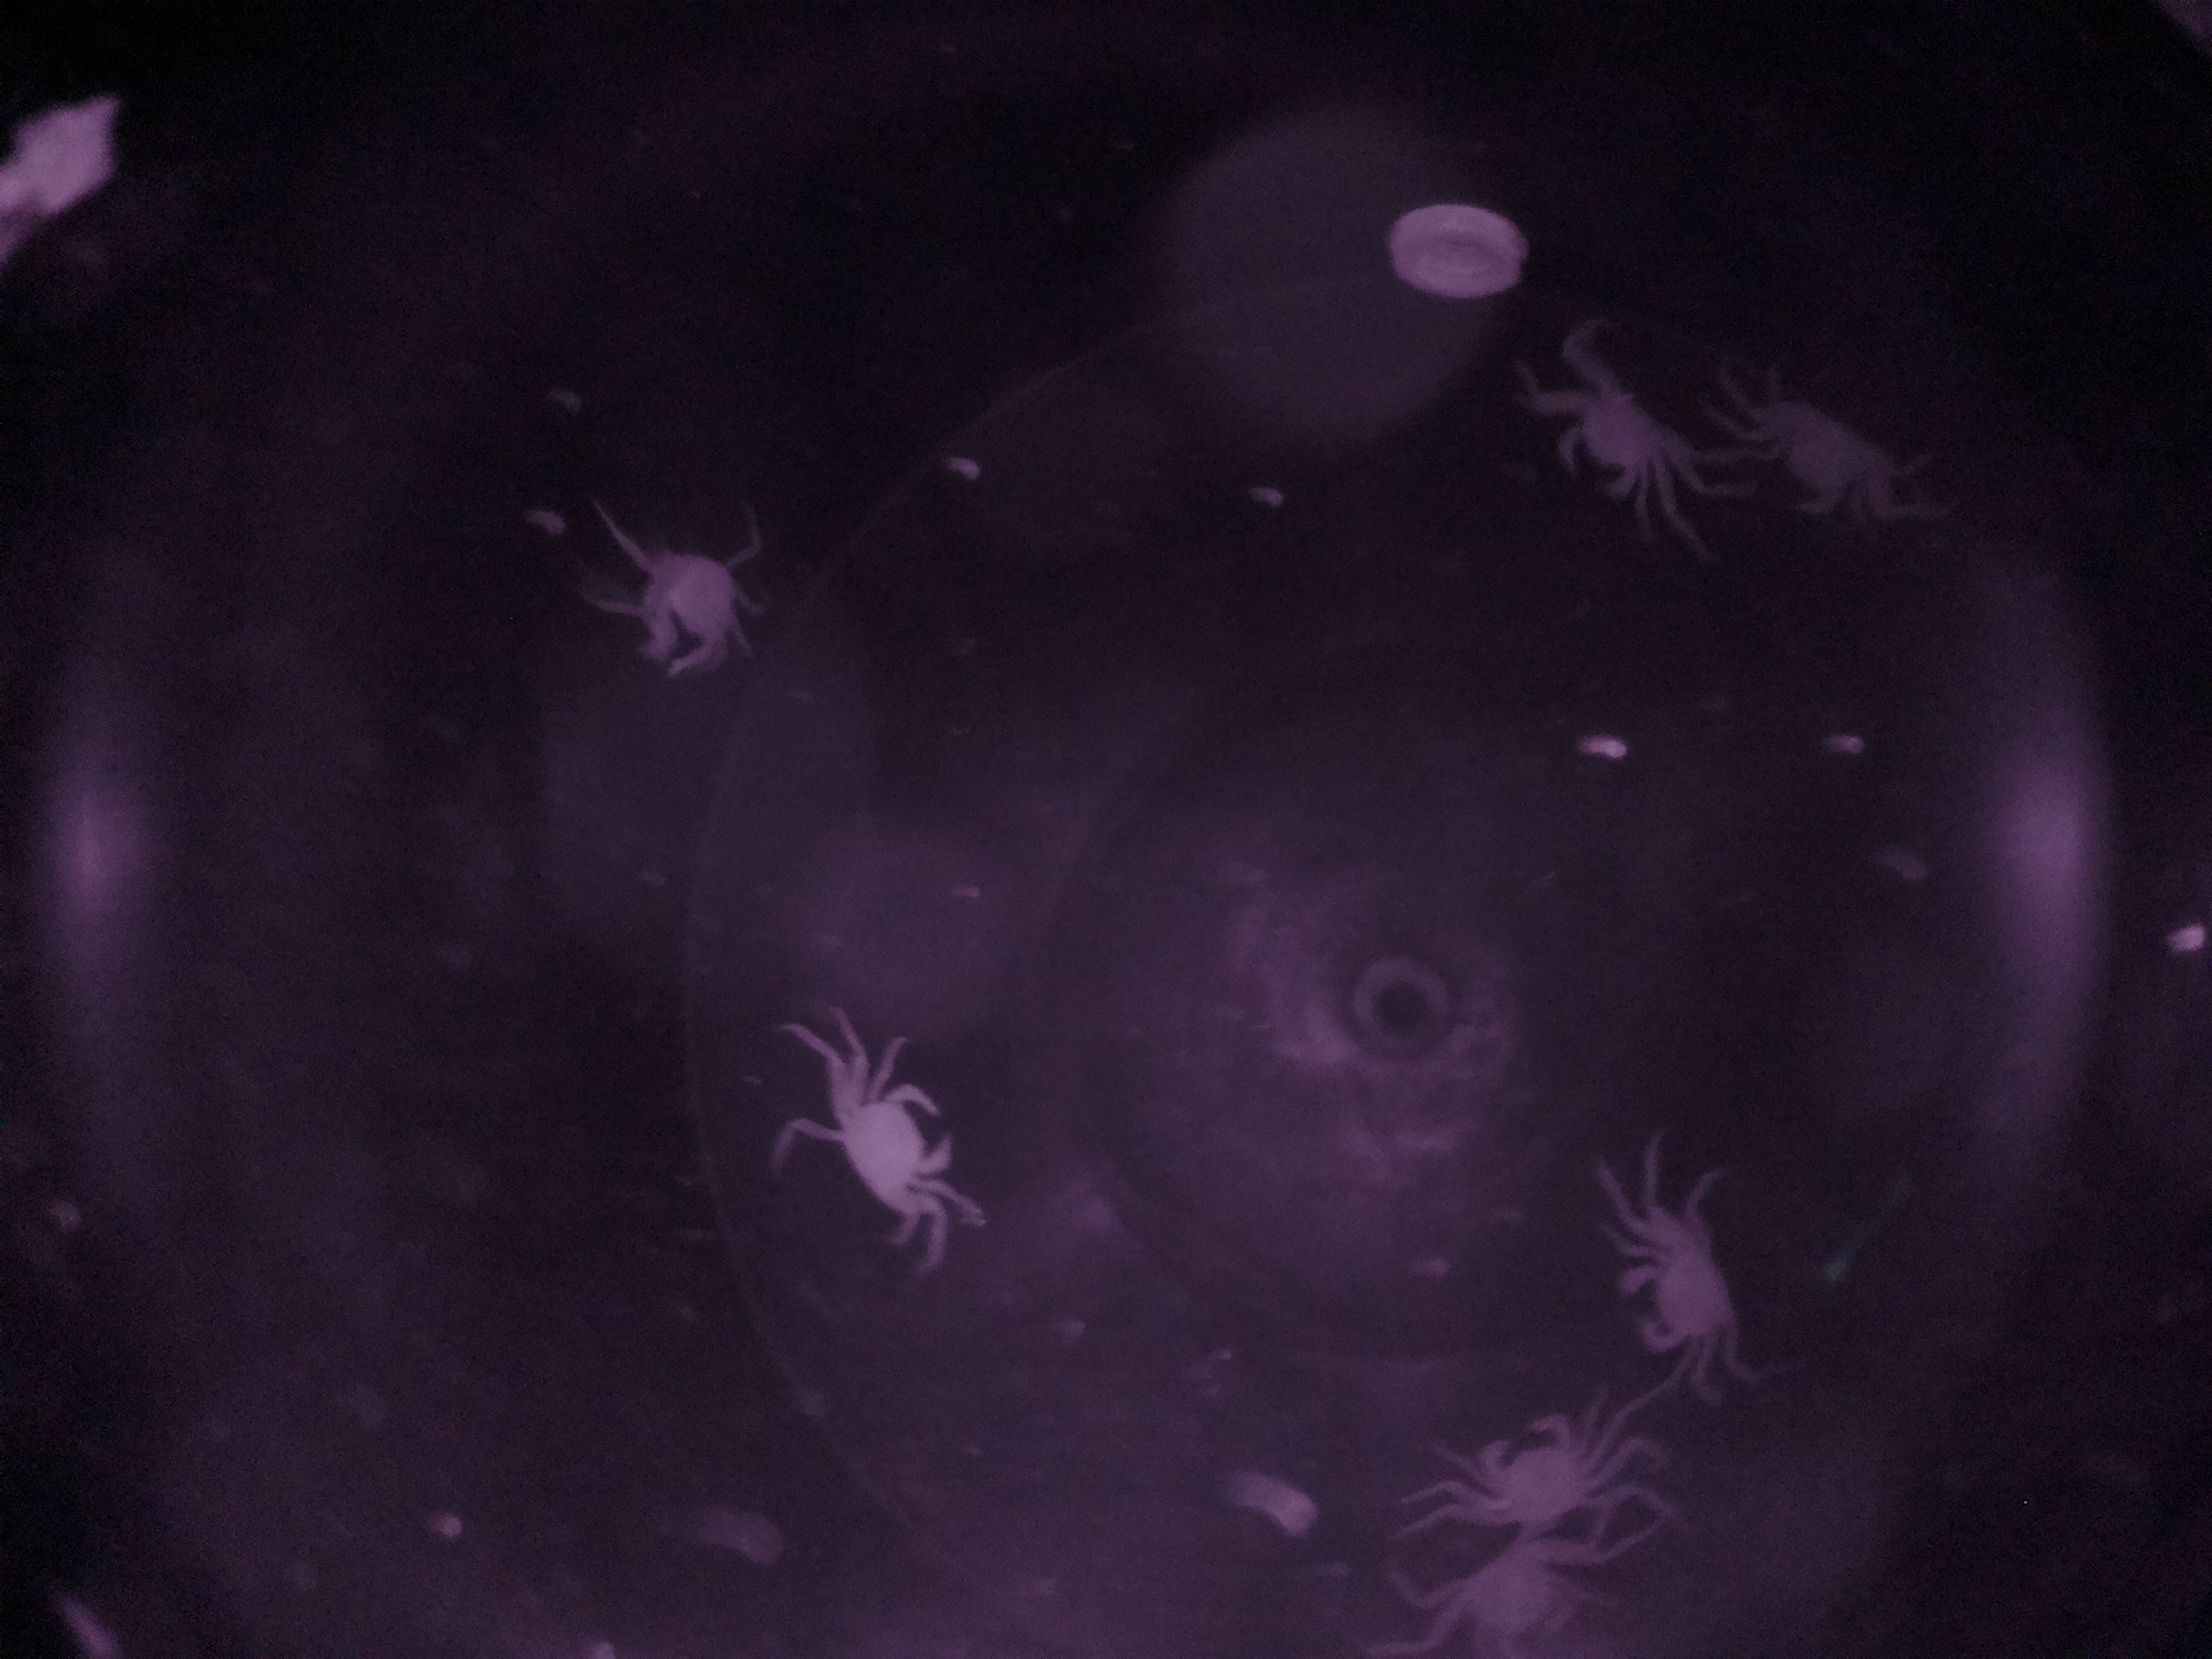Crab: (791, 1056, 970, 1232), (1609, 1209, 1778, 1377), (1460, 1394, 1622, 1539), (1547, 352, 1683, 511)
